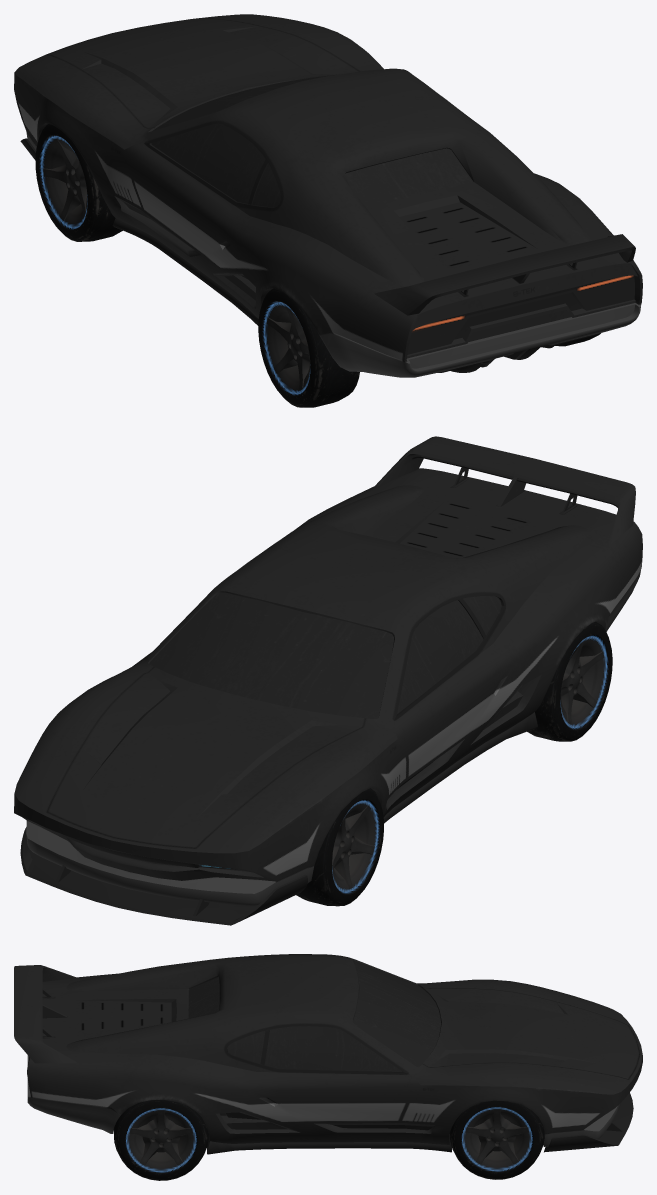
3 views of the same model, one above another, from view 1: azimuth 30°, elevation 25°; view 2: azimuth 150°, elevation 25°; view 3: azimuth 270°, elevation 25° (orthographic). The views are drawn at different scales.
Parts seen in each view (by area): view 1: cb_car_export, cb_car_export_cb_car_0.004, cb_car_export_cb_car_0.003; view 2: cb_car_export, cb_car_export_cb_car_0.004, cb_car_export_cb_car_0.003; view 3: cb_car_export, cb_car_export_cb_car_0.001, cb_car_export_cb_car_0.002.
Part boxes in pixels (<box>): cb_car_export: <box>14,14,642,377</box>; cb_car_export_cb_car_0.004: <box>258,288,359,407</box>; cb_car_export_cb_car_0.003: <box>35,124,122,241</box>; cb_car_export: <box>14,436,642,925</box>; cb_car_export_cb_car_0.004: <box>527,621,612,741</box>; cb_car_export_cb_car_0.003: <box>296,788,383,906</box>; cb_car_export: <box>14,954,642,1154</box>; cb_car_export_cb_car_0.001: <box>113,1100,208,1180</box>; cb_car_export_cb_car_0.002: <box>449,1100,544,1179</box>.
Size of the model in its own units: 223 by 141 by 541.
1 material, 1 textured.
